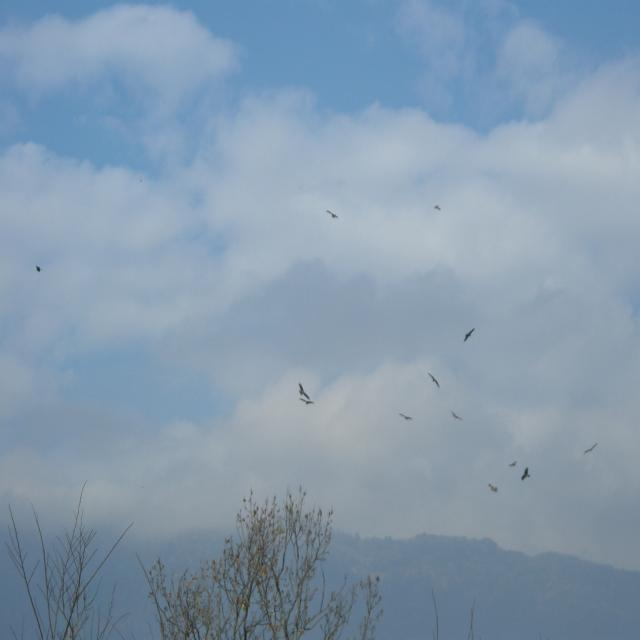bird: (428, 373, 442, 390), (463, 328, 476, 346), (298, 384, 312, 400), (582, 444, 599, 457), (398, 412, 416, 424), (326, 211, 341, 224), (449, 410, 463, 423), (518, 468, 530, 483), (487, 483, 500, 495), (433, 202, 443, 215), (506, 456, 515, 469), (34, 264, 42, 276), (305, 397, 313, 408)
